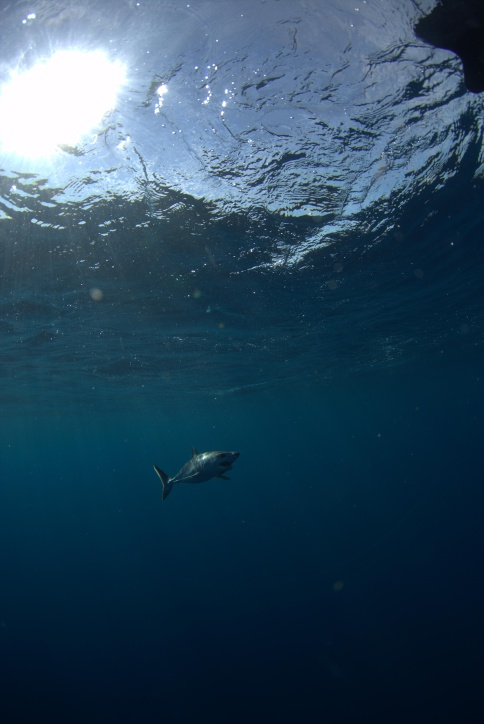Mako: (129, 444, 252, 504)
